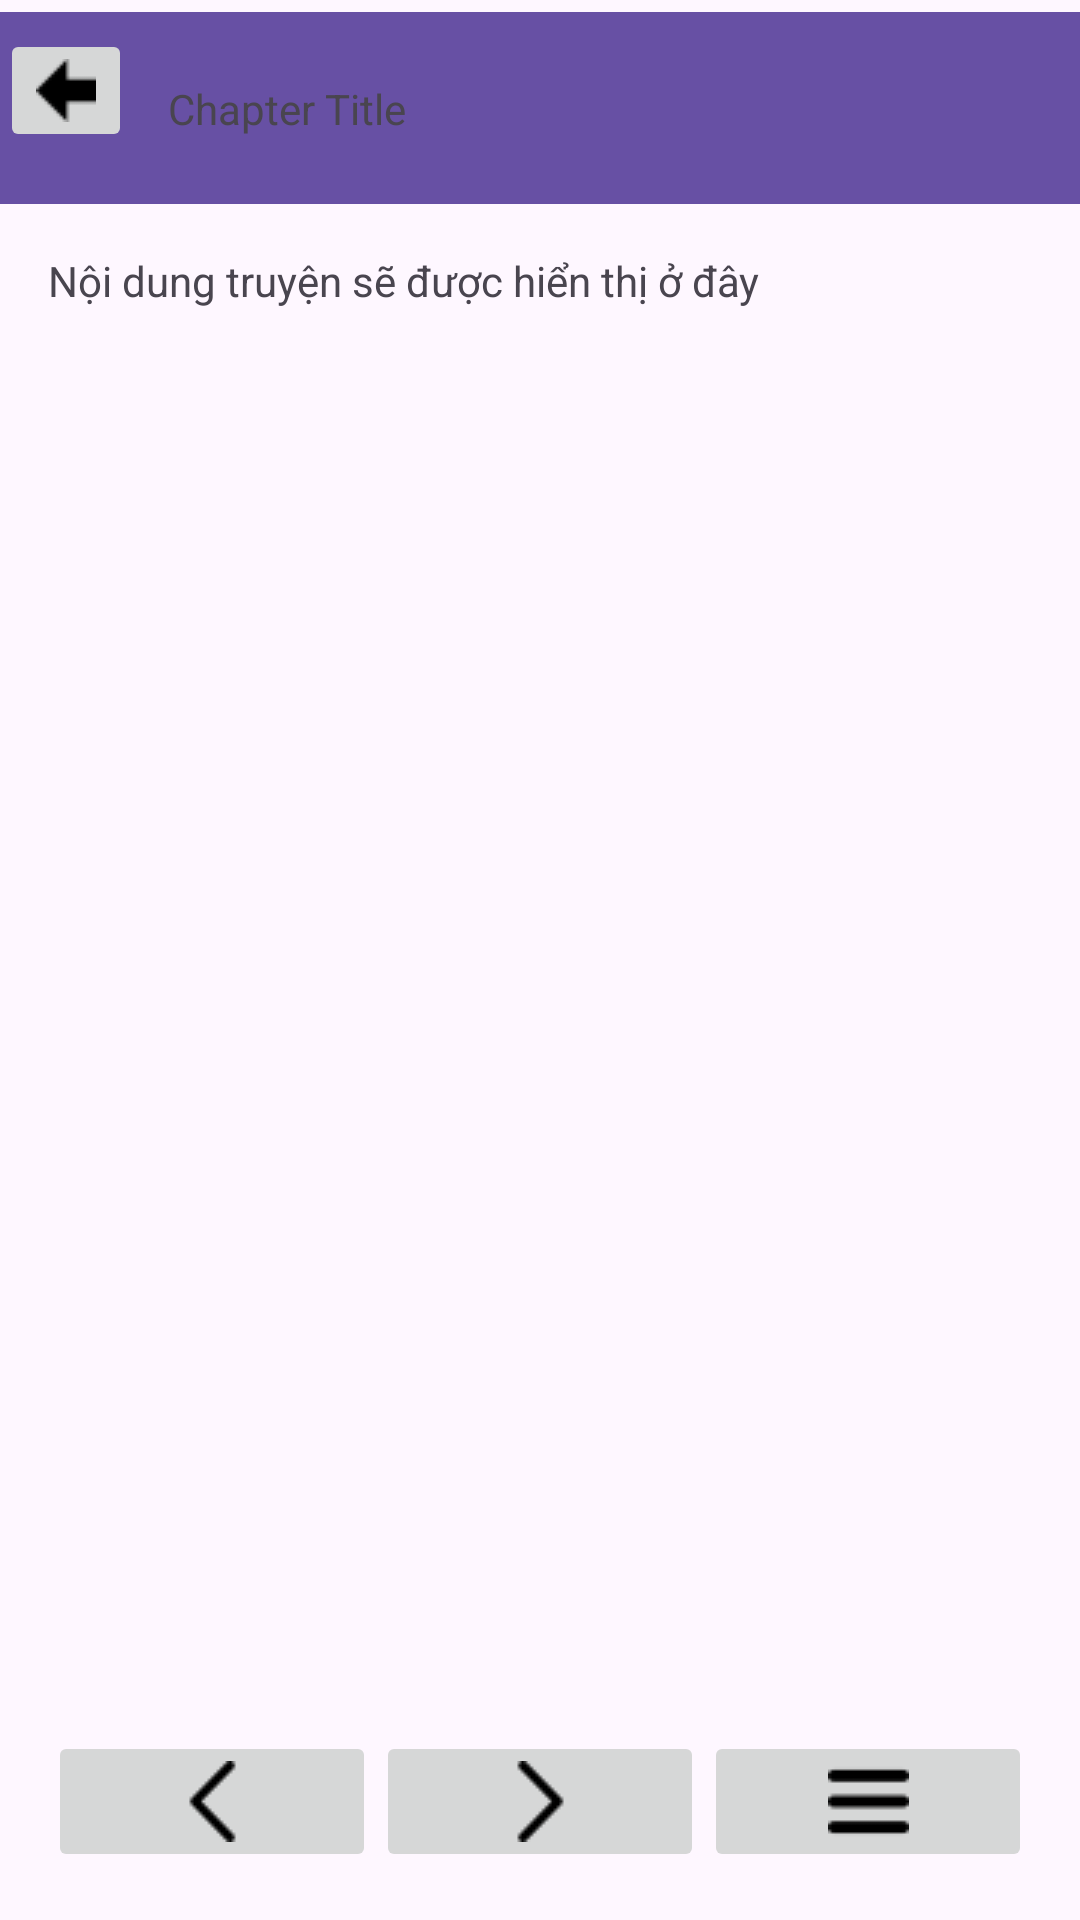

Point at icon controls on the screen. Image size 1080 × 1920, points as point (x, y).
Danh sách chương: point (868, 1801)
Trang sau: point (540, 1801)
Trang trước: point (212, 1801)
Trở về: point (66, 90)
